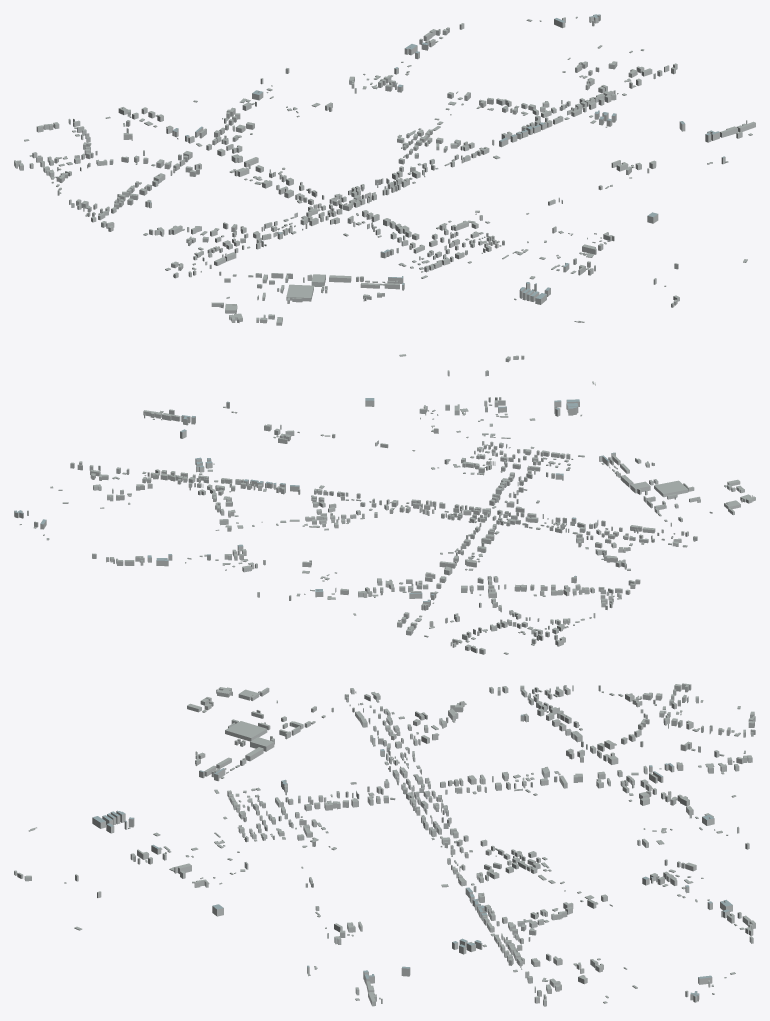
Rendered from far.glb.
The picture shows the model from 3 angles, top to bottom: view 1: azimuth 30°, elevation 25°; view 2: azimuth 150°, elevation 25°; view 3: azimuth 270°, elevation 25°; orthographic projection. The views are drawn at different scales.
Bounding box in the file's own units: 2104 × 25.65 × 2074.
